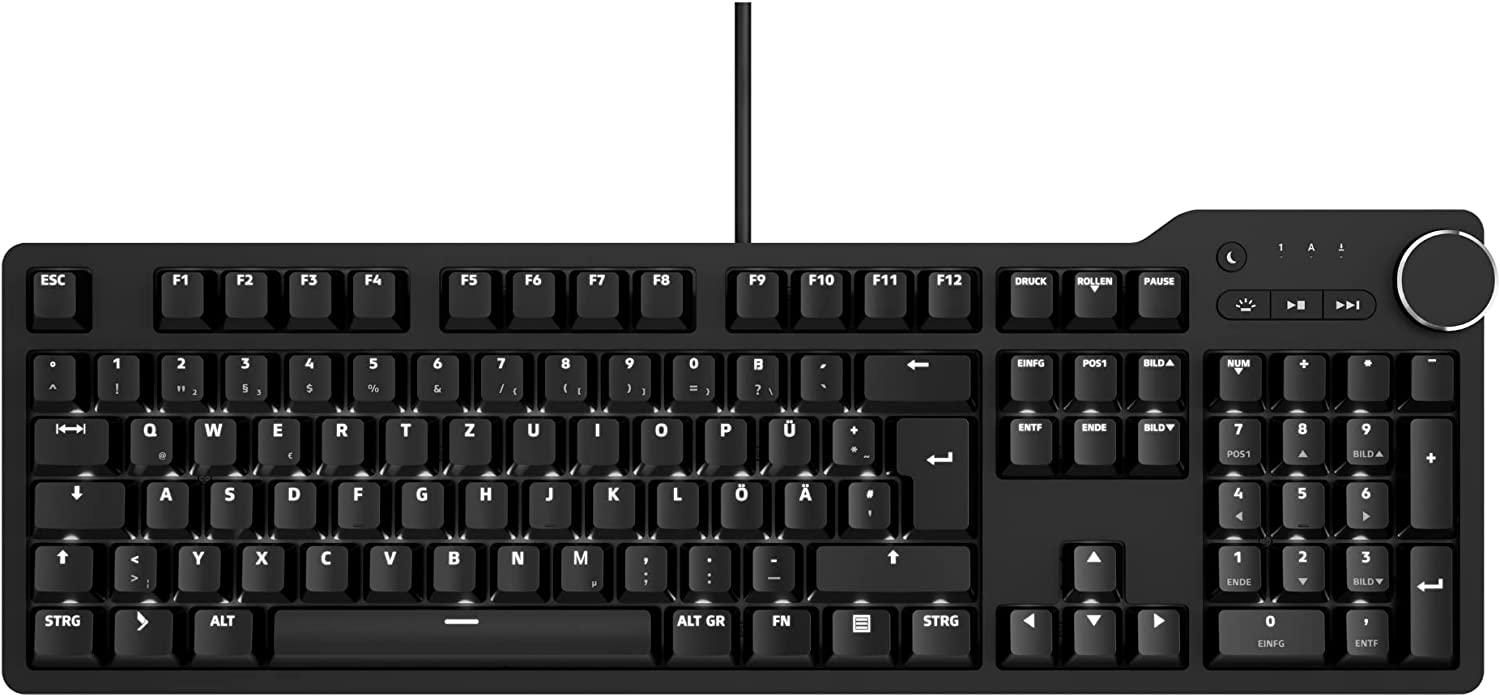0: (668, 347, 717, 401)
1: (93, 349, 140, 401)
2: (157, 348, 204, 402)
3: (221, 349, 268, 401)
4: (285, 348, 332, 401)
5: (348, 348, 396, 402)
6: (413, 348, 461, 401)
7: (477, 348, 524, 402)
8: (540, 348, 588, 403)
9: (604, 348, 652, 402)
a: (142, 475, 189, 527)
accent: (797, 349, 843, 400)
ae: (781, 475, 827, 527)
alt-left: (189, 603, 255, 655)
altgr-right: (665, 603, 735, 657)
b: (429, 539, 477, 590)
c: (303, 539, 349, 589)
caret: (29, 348, 75, 400)
comma: (621, 539, 667, 590)
d: (270, 476, 317, 527)
del: (861, 349, 970, 400)
e: (254, 412, 301, 463)
enter: (894, 411, 970, 531)
f: (334, 476, 380, 526)
g: (398, 476, 444, 527)
h: (461, 476, 508, 527)
hash: (845, 476, 890, 528)
i: (574, 412, 620, 463)
j: (526, 475, 571, 527)
k: (589, 475, 637, 527)
keyboard: (3, 241, 1489, 693)
l: (653, 476, 699, 527)
less: (110, 540, 156, 590)
m: (556, 539, 604, 591)
minus: (748, 539, 796, 590)
n: (493, 539, 541, 590)
o: (637, 412, 685, 464)
oe: (717, 475, 764, 528)
p: (700, 412, 748, 463)
plus: (829, 411, 875, 463)
point: (685, 539, 731, 589)
q: (126, 412, 174, 465)
r: (318, 412, 365, 463)
s: (206, 476, 252, 528)
shift-left: (32, 541, 92, 590)
shift-lock: (32, 476, 125, 528)
shift-right: (812, 541, 971, 590)
space: (269, 601, 655, 660)
ss: (732, 349, 780, 402)
strg-left: (29, 603, 96, 658)
strg-right: (906, 603, 975, 658)
t: (383, 412, 428, 462)
tab: (31, 412, 110, 464)
u: (510, 412, 556, 463)
ue: (765, 412, 812, 464)
v: (366, 539, 412, 589)
w: (190, 412, 237, 464)
x: (239, 539, 285, 589)
y: (175, 540, 221, 590)
z: (446, 412, 492, 463)
